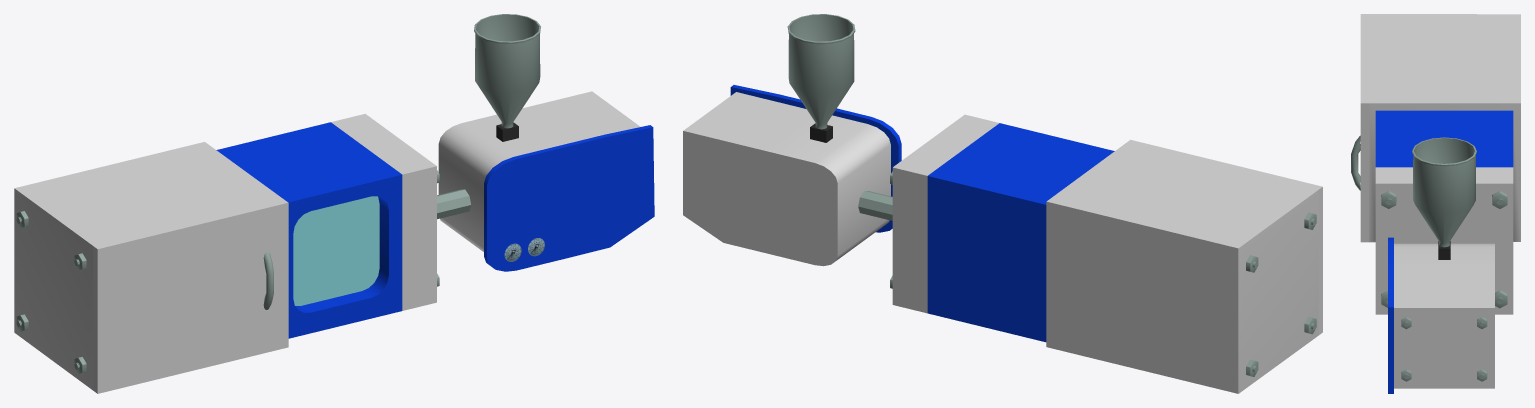
Rendered from Inyectora.fbx.
3 views of the same model, side by side, from view 1: azimuth 30°, elevation 25°; view 2: azimuth 150°, elevation 25°; view 3: azimuth 270°, elevation 25° (orthographic). The views are drawn at different scales.
Visible parts, largest first — view 1: Inyectora, PuertaInyectora, EntradaInyectora, TornillosInyectora; view 2: Inyectora, EntradaInyectora, PuertaInyectora, TornillosInyectora; view 3: Inyectora, EntradaInyectora, PuertaInyectora, TornillosInyectora.
Part boxes in pixels (<box>): Inyectora: <box>14,91,654,390</box>; PuertaInyectora: <box>93,199,288,393</box>; EntradaInyectora: <box>474,14,540,128</box>; TornillosInyectora: <box>16,170,470,374</box>; Inyectora: <box>683,85,1318,393</box>; EntradaInyectora: <box>787,14,855,129</box>; PuertaInyectora: <box>1126,139,1322,335</box>; TornillosInyectora: <box>858,171,1316,376</box>; Inyectora: <box>1369,14,1520,393</box>; EntradaInyectora: <box>1412,137,1476,247</box>; PuertaInyectora: <box>1351,14,1368,242</box>; TornillosInyectora: <box>1381,191,1507,381</box>.
Size of the model in its own units: 2200 by 812 by 583.
Materials: 6 (1 with a texture image).
